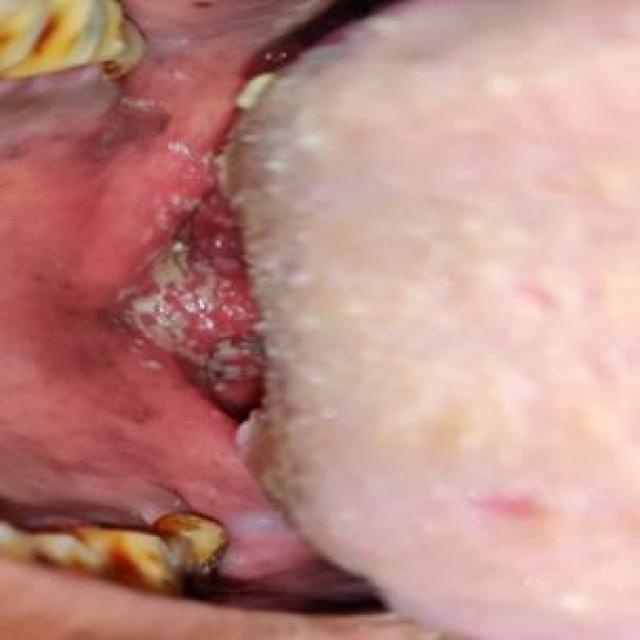cancer-detection: (122, 173, 262, 411), (0, 75, 168, 160)
processing_area: (2, 0, 638, 638)
